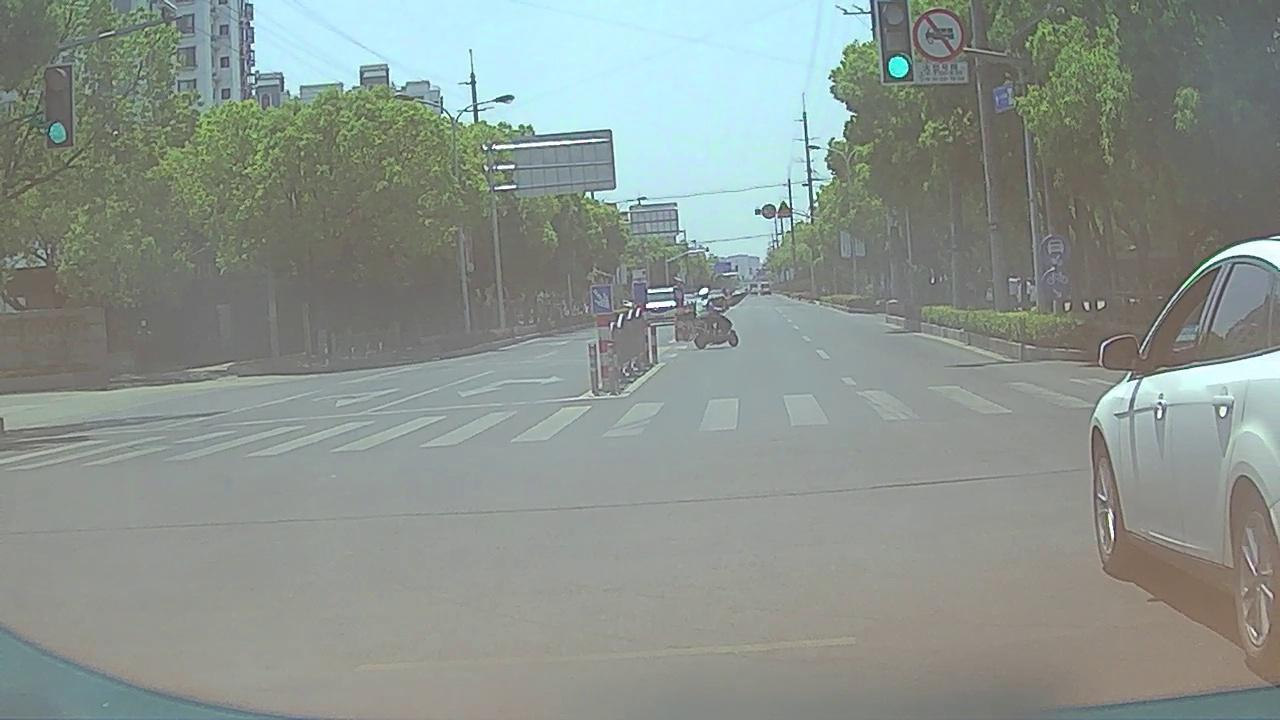traffic_light: (881, 3, 912, 82), (44, 65, 71, 148)
